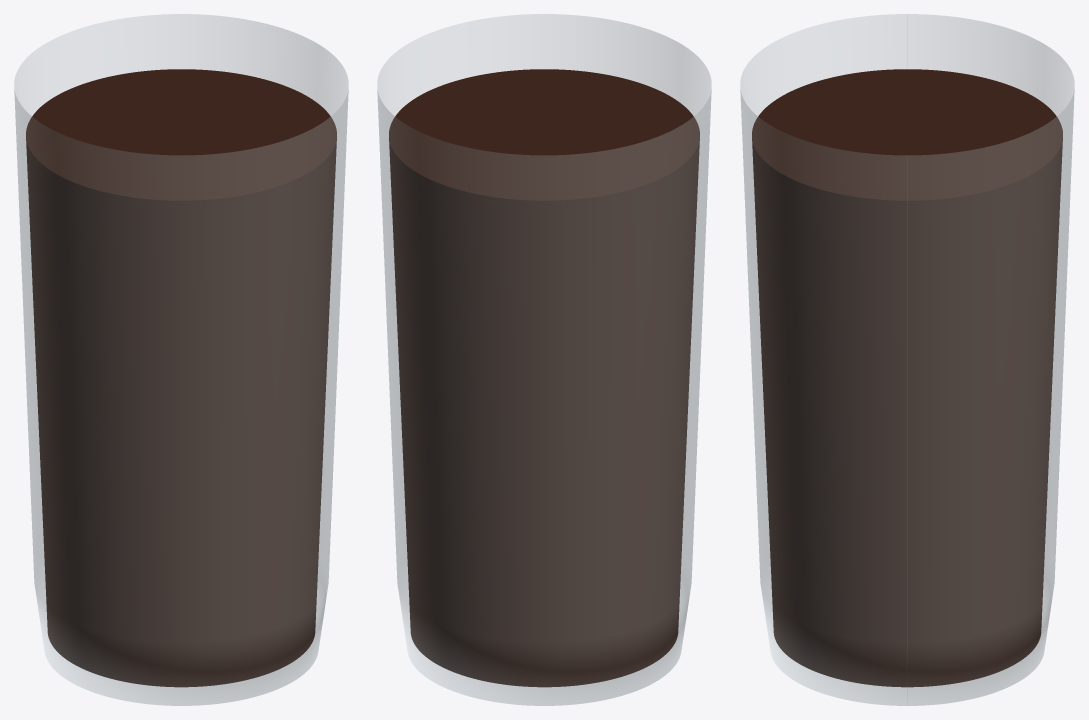
Rendered from bebida-2-hero.glb.
The picture shows the model from 3 angles, left to right: view 1: azimuth 30°, elevation 25°; view 2: azimuth 150°, elevation 25°; view 3: azimuth 270°, elevation 25°; orthographic projection.
Size of the model in its own units: 0.07 by 0.13 by 0.07.
